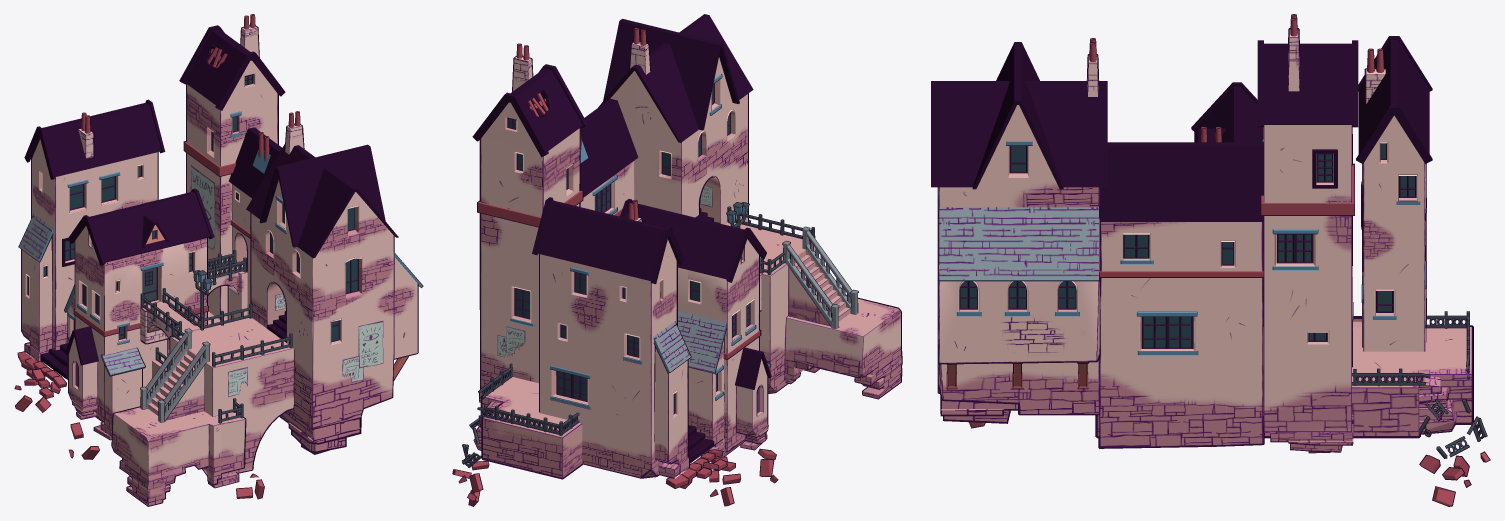
The model's file is something.obj.
3 views of the same model, side by side, from view 1: azimuth 30°, elevation 25°; view 2: azimuth 150°, elevation 25°; view 3: azimuth 270°, elevation 25° (orthographic). The views are drawn at different scales.
Visible parts, largest first — view 1: Roof.001, Base.003, Base.007, Base.006, Base.001, Base.002, Base.005, Deco, Deco.001, Windows_and_doors, Bridge.001, Stones (+13 smaller); view 2: Roof.001, Base.006, Base.005, Base.003, Base.007, Base.001, Platform, Base.002, Deco.001, Windows_and_doors, Deco, Stones (+10 smaller); view 3: Roof.001, Base.004, Base.003, Base.005, Base.006, Platform, Windows_and_doors, Deco_wind, Deco, Deco_wind.001, Pipes.001, ground.001 (+5 smaller).
Boxes of the visible parts, x1,y1,x2,y2 form: Roof.001: (18,25,423,376); Base.003: (250,180,418,429); Base.007: (67,226,207,430); Base.006: (21,139,158,361); Base.001: (111,406,246,506); Base.002: (169,317,293,475); Base.005: (186,60,278,319); Deco: (140,250,292,423); Deco.001: (140,328,210,422); Windows_and_doors: (27,75,358,342); Bridge.001: (140,263,247,344); Stones: (14,351,264,499); Roof.001: (472,14,771,389); Base.006: (539,239,689,478); Base.005: (479,102,580,389); Base.003: (609,57,748,224); Base.007: (678,239,768,452); Base.001: (784,295,902,399); Platform: (480,377,582,479); Base.002: (724,222,815,393); Deco.001: (782,226,858,328); Windows_and_doors: (507,83,750,414); Deco: (462,202,815,467); Stones: (452,448,778,506); Roof.001: (931,36,1432,281); Base.004: (1098,222,1264,448); Base.003: (937,105,1100,415); Base.005: (1262,125,1352,432); Base.006: (1362,115,1426,351); Platform: (1095,319,1473,438); Windows_and_doors: (959,143,1416,348); Deco_wind: (956,134,1426,355); Deco: (1352,311,1487,458); Deco_wind.001: (1099,163,1354,277); Pipes.001: (1086,28,1385,104); ground.001: (1419,376,1456,434).
Bounding box in the file's own units: 21.98 × 29.98 × 30.52.
